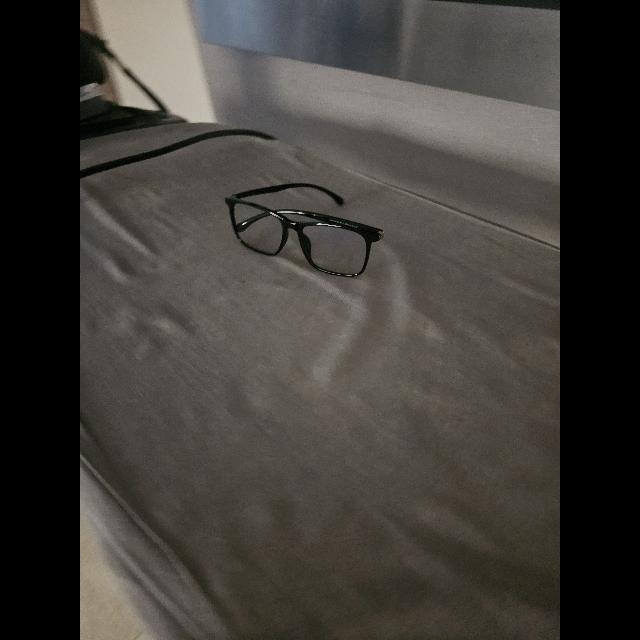glasses: (225, 184, 383, 276)
